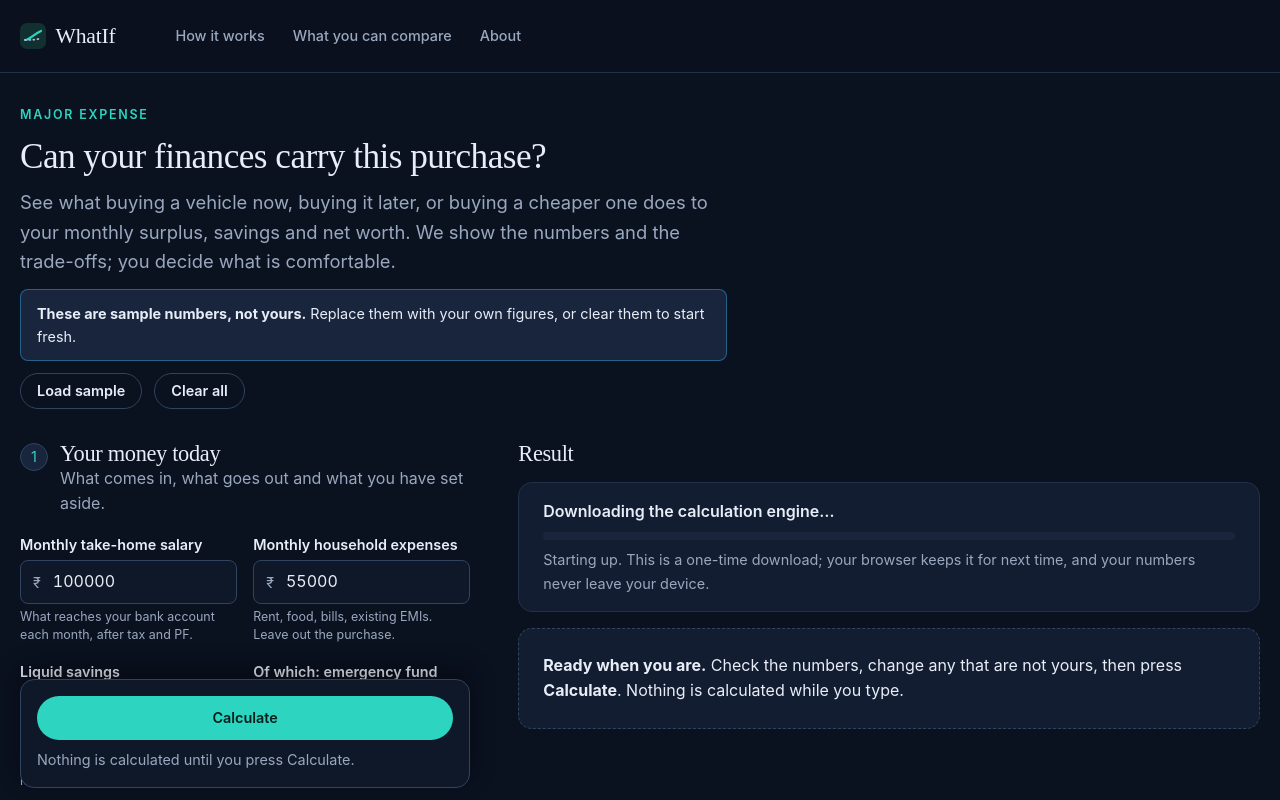
Test: major expense page › shows EMI, interest, surplus and cover in Indian format for every option
What coordinates should you click on to do the following:
click the button "Calculate"
I would click on:
 (245, 718)
Its box is left=37, top=696, right=453, bottom=740.
(page scrolled)
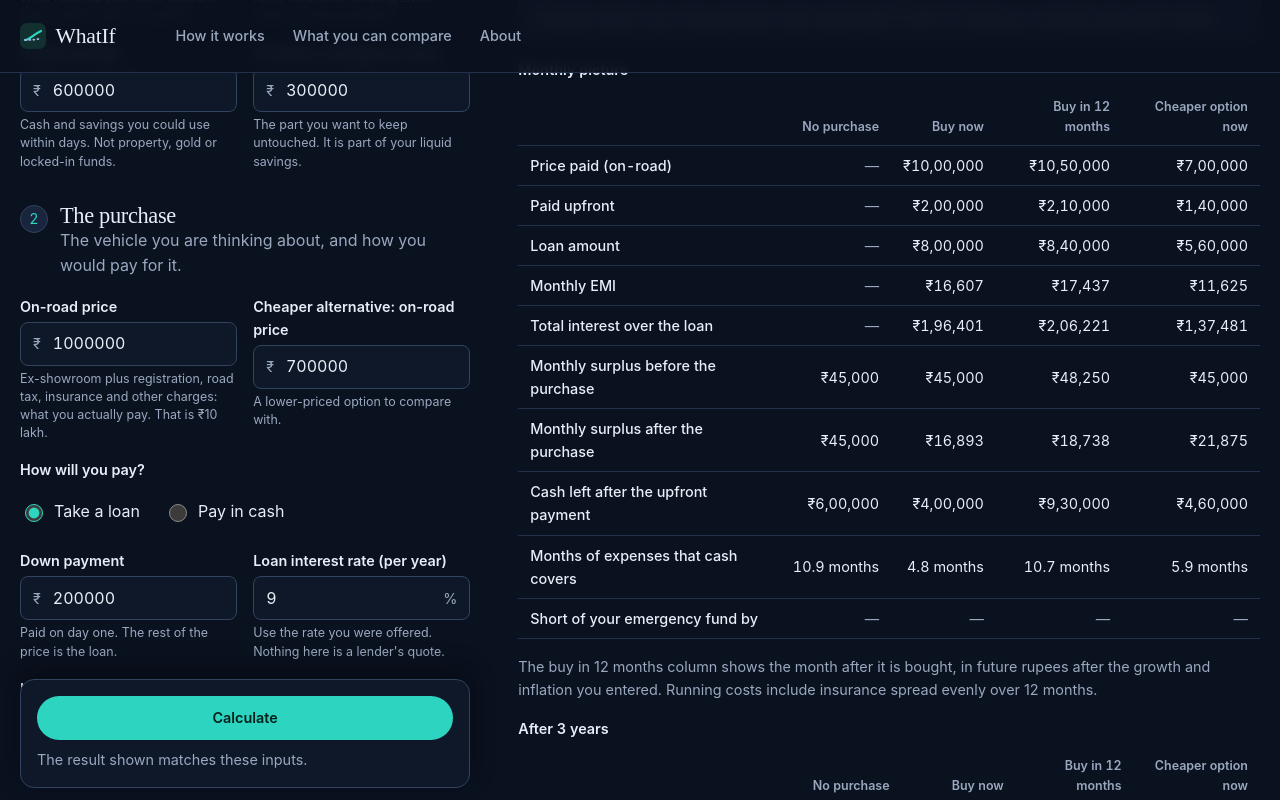
Expected: the table "Monthly picture" is shown, left=518, top=58, right=1260, bottom=639
Expected: the column headings read "Measure", "No purchase", "Buy now", "Buy in 12 months", "Cheaper option now", in this order, left=518, top=89, right=781, bottom=146; left=781, top=89, right=891, bottom=146; left=891, top=89, right=996, bottom=146; left=996, top=89, right=1122, bottom=146; left=1122, top=89, right=1260, bottom=146
